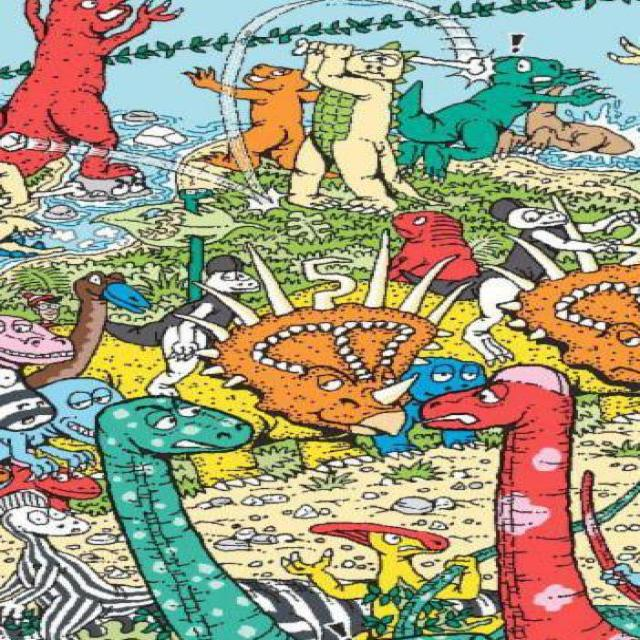waldo: (22, 293, 64, 321)
